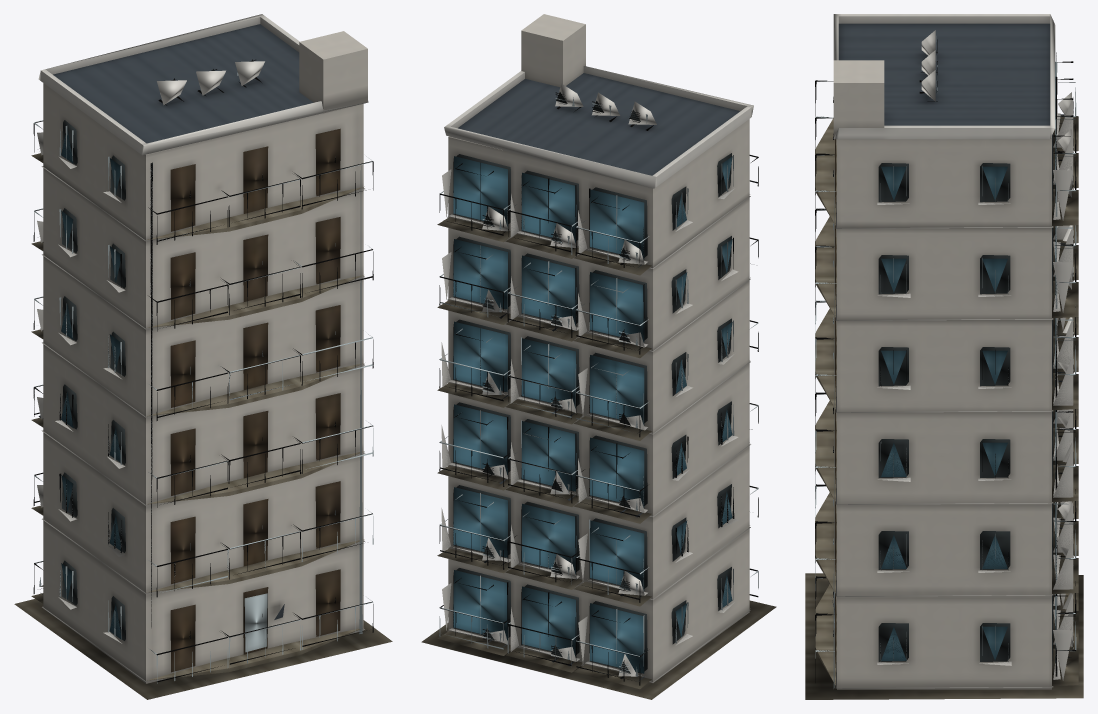
File: residential_008.obj
The picture shows the model from 3 angles, left to right: view 1: azimuth 30°, elevation 25°; view 2: azimuth 150°, elevation 25°; view 3: azimuth 270°, elevation 25°; orthographic projection. The views are drawn at different scales.
Visible parts, largest first — view 1: residential_008; view 2: residential_008; view 3: residential_008.
Part boxes in pixels (bbox=[...]): residential_008: bbox=[14, 14, 392, 699]; residential_008: bbox=[421, 14, 776, 699]; residential_008: bbox=[805, 14, 1083, 699].
Bounding box in the file's own units: 8.8 × 20.05 × 8.27.
1 material, 1 textured.
